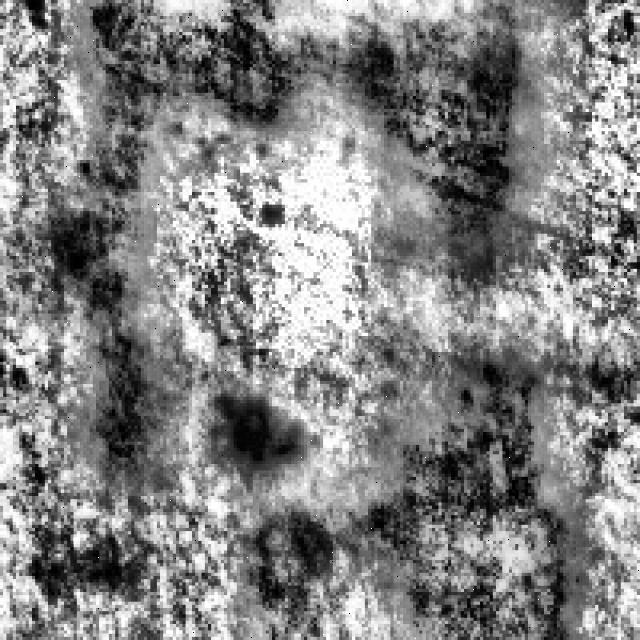Patches: (218, 384, 320, 467)
Scratches: (58, 0, 548, 282), (371, 342, 579, 634), (51, 202, 179, 486), (255, 502, 342, 598)
